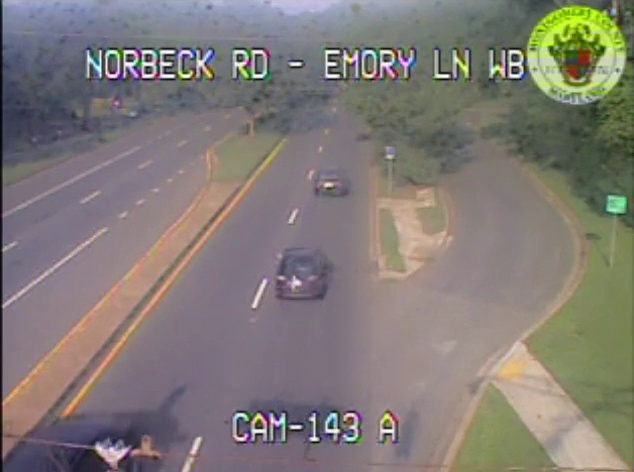car: (276, 248, 322, 297), (316, 171, 345, 194)
